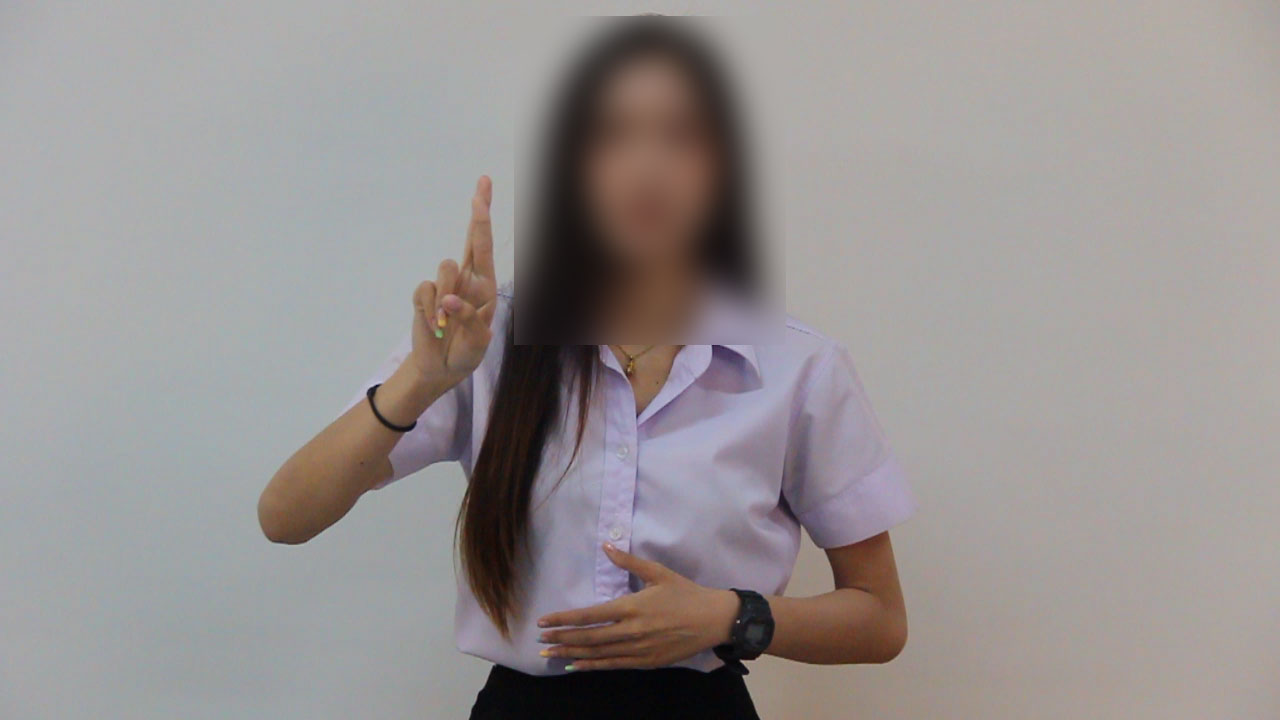rao: (360, 169, 499, 392)
